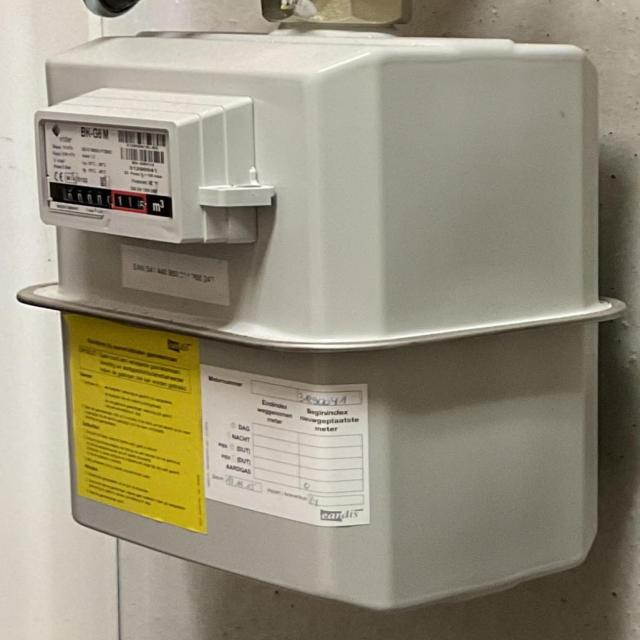gaz_meter: (41, 119, 178, 220)
indication: (52, 181, 154, 215)
